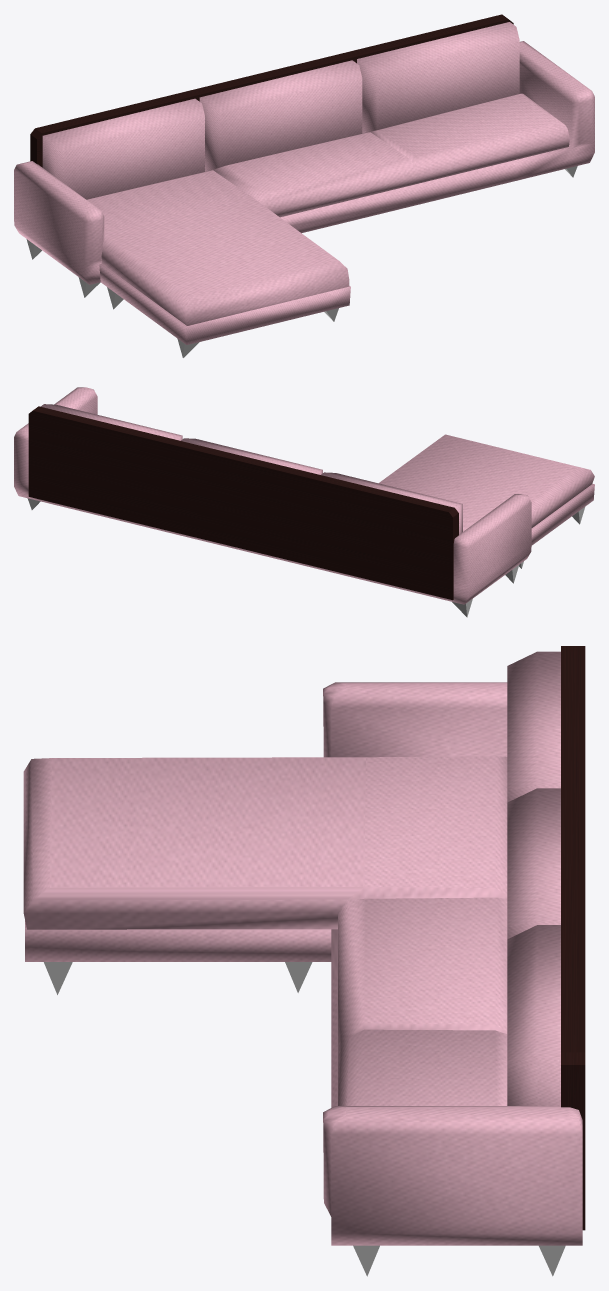
The model's file is Chaise_Sofa_B_06.FBX.
The picture shows the model from 3 angles, top to bottom: view 1: azimuth 30°, elevation 25°; view 2: azimuth 150°, elevation 25°; view 3: azimuth 270°, elevation 25°; orthographic projection. The views are drawn at different scales.
Parts seen in each view (by area): view 1: Chaise_Sofa_B; view 2: Chaise_Sofa_B; view 3: Chaise_Sofa_B.
Part boxes in pixels (x1,y1,x2,y2): Chaise_Sofa_B: (14, 14, 594, 357); Chaise_Sofa_B: (14, 387, 594, 617); Chaise_Sofa_B: (23, 646, 585, 1276).
Size of the model in its own units: 685 by 157 by 366.
